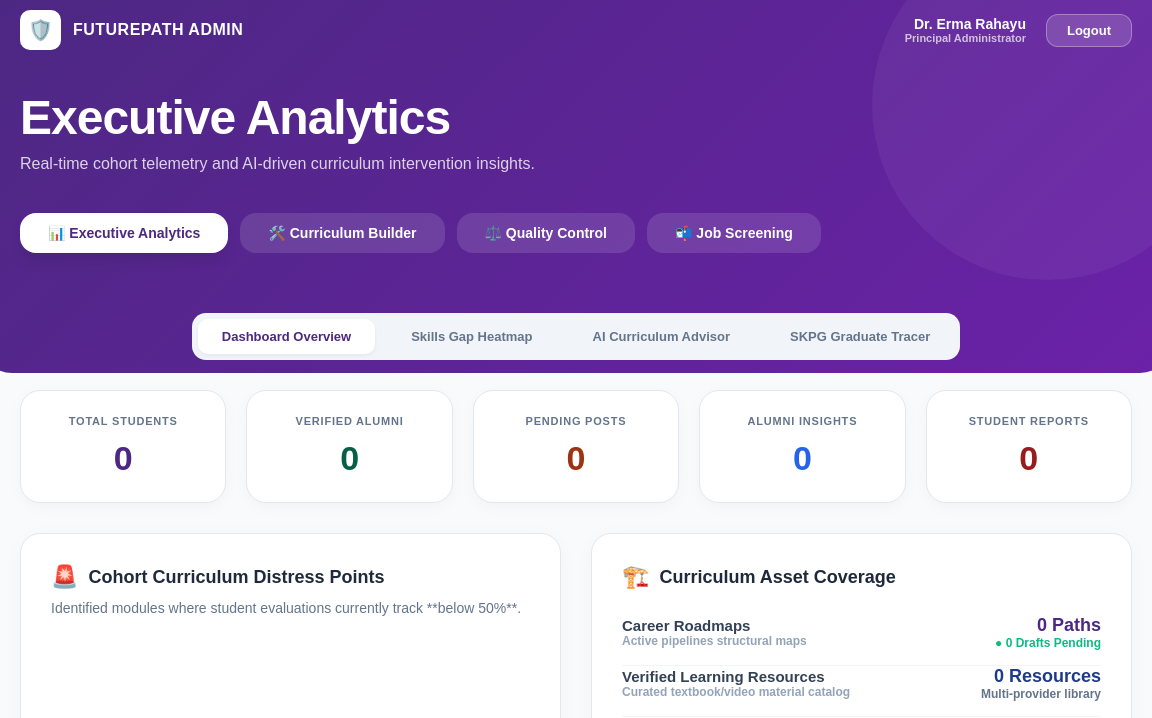
Scenario: AdminDashboard Integration & Heatmap Logic › renders heatmap cells correctly (0% vs Dash)
expect the heading "Executive Analytics" is shown: met, box [20,91,450,144]
# Switch to Heatmap Tab
Click the button "Skills Gap Heatmap" at (472, 336), box [387,319,556,354]
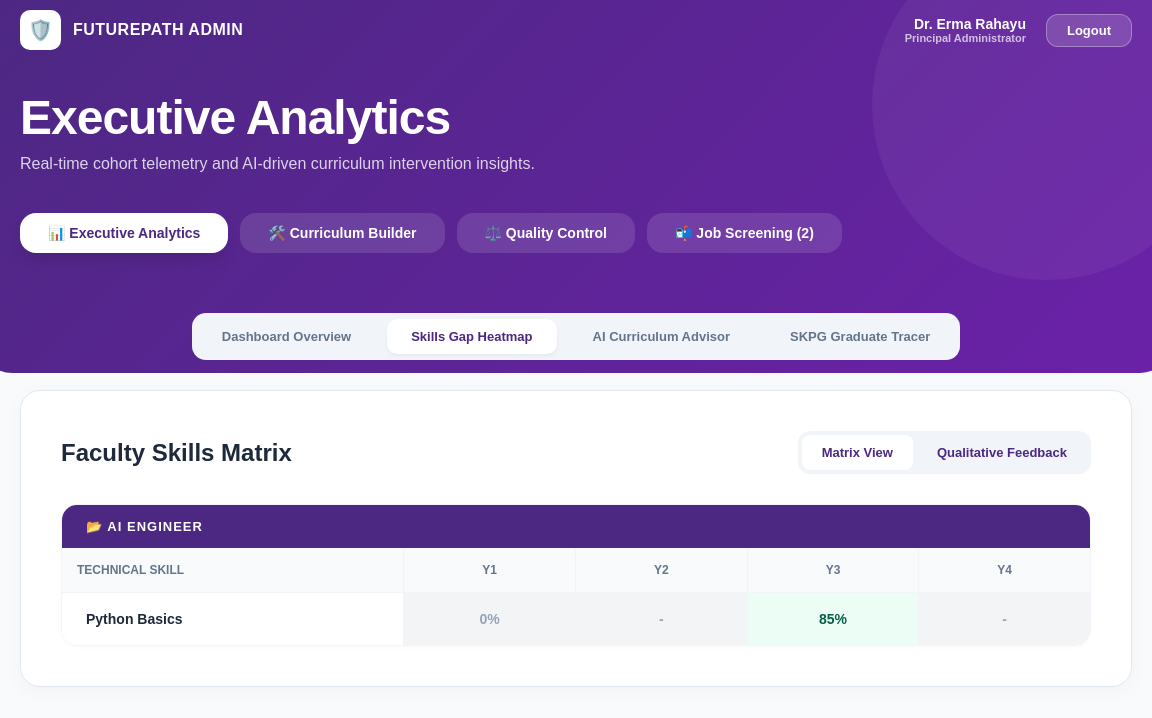
expect the text "Python Basics" is shown: met, box [62,593,403,645]
expect the 1st text "-" is shown: met, box [576,593,747,645]
